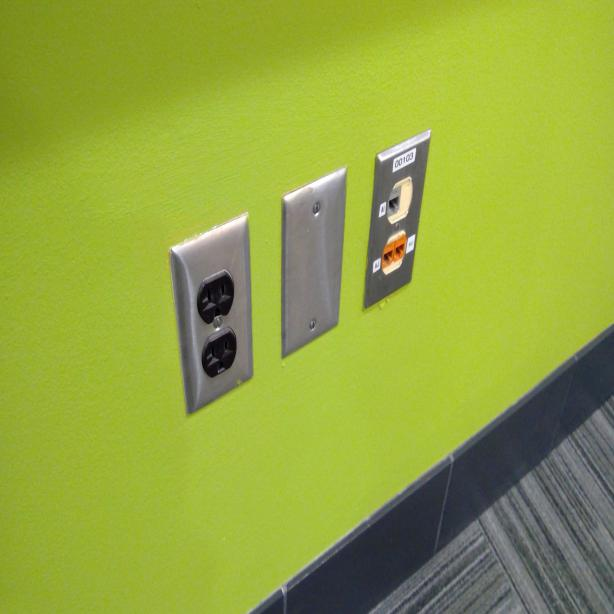typeb: (200, 334, 236, 376), (200, 277, 232, 324)
